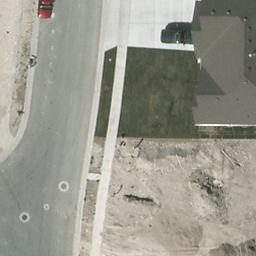car: (161, 31, 199, 44)
pickup: (34, 0, 56, 19)
